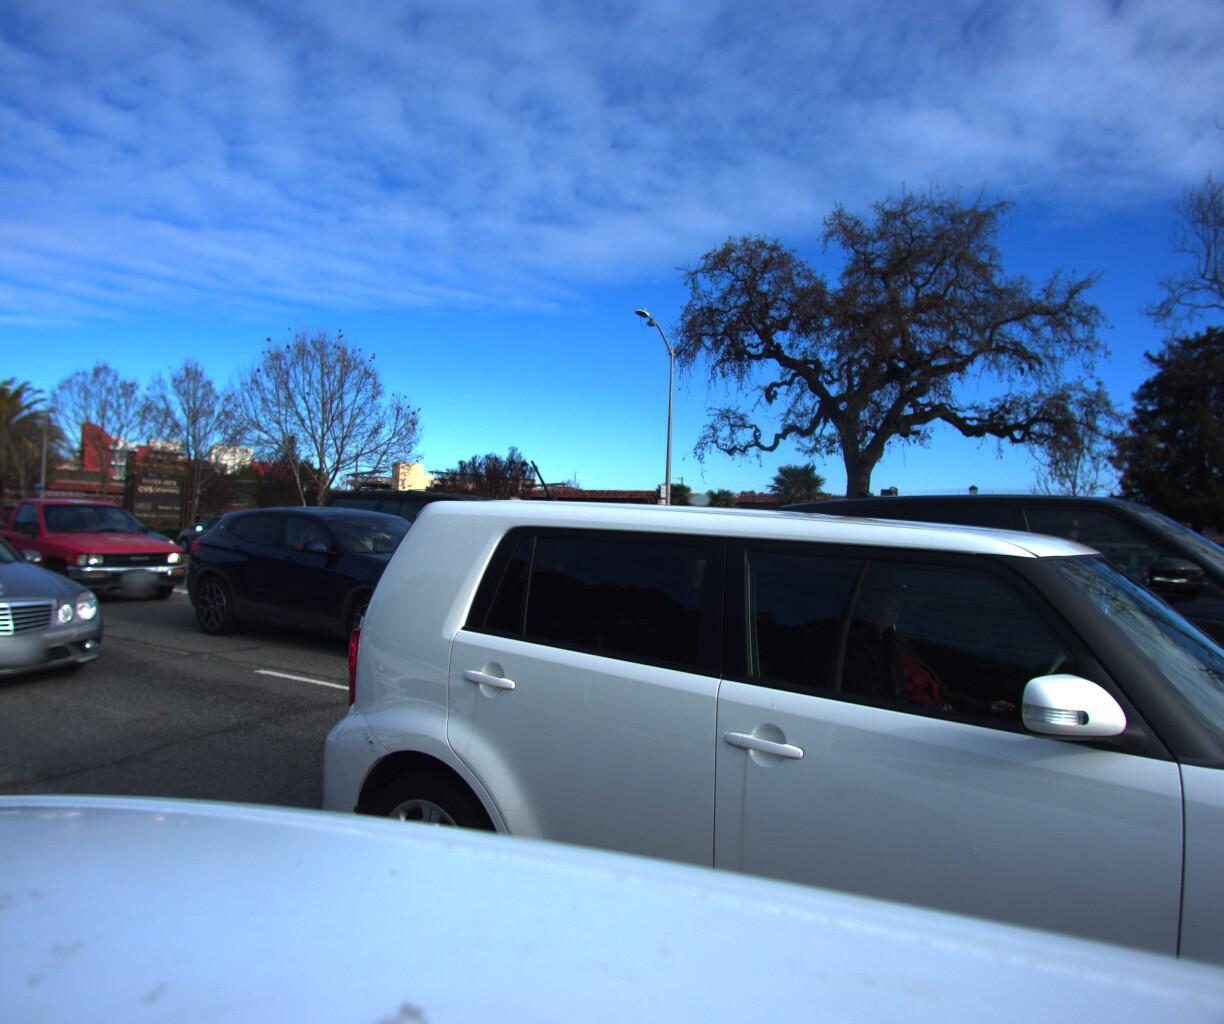car: (273, 465, 1224, 1024), (698, 472, 1224, 896), (174, 497, 547, 672), (300, 482, 609, 604), (0, 497, 126, 718), (988, 547, 1224, 655), (0, 487, 189, 615), (25, 501, 191, 573), (168, 511, 272, 553), (0, 504, 13, 536)
